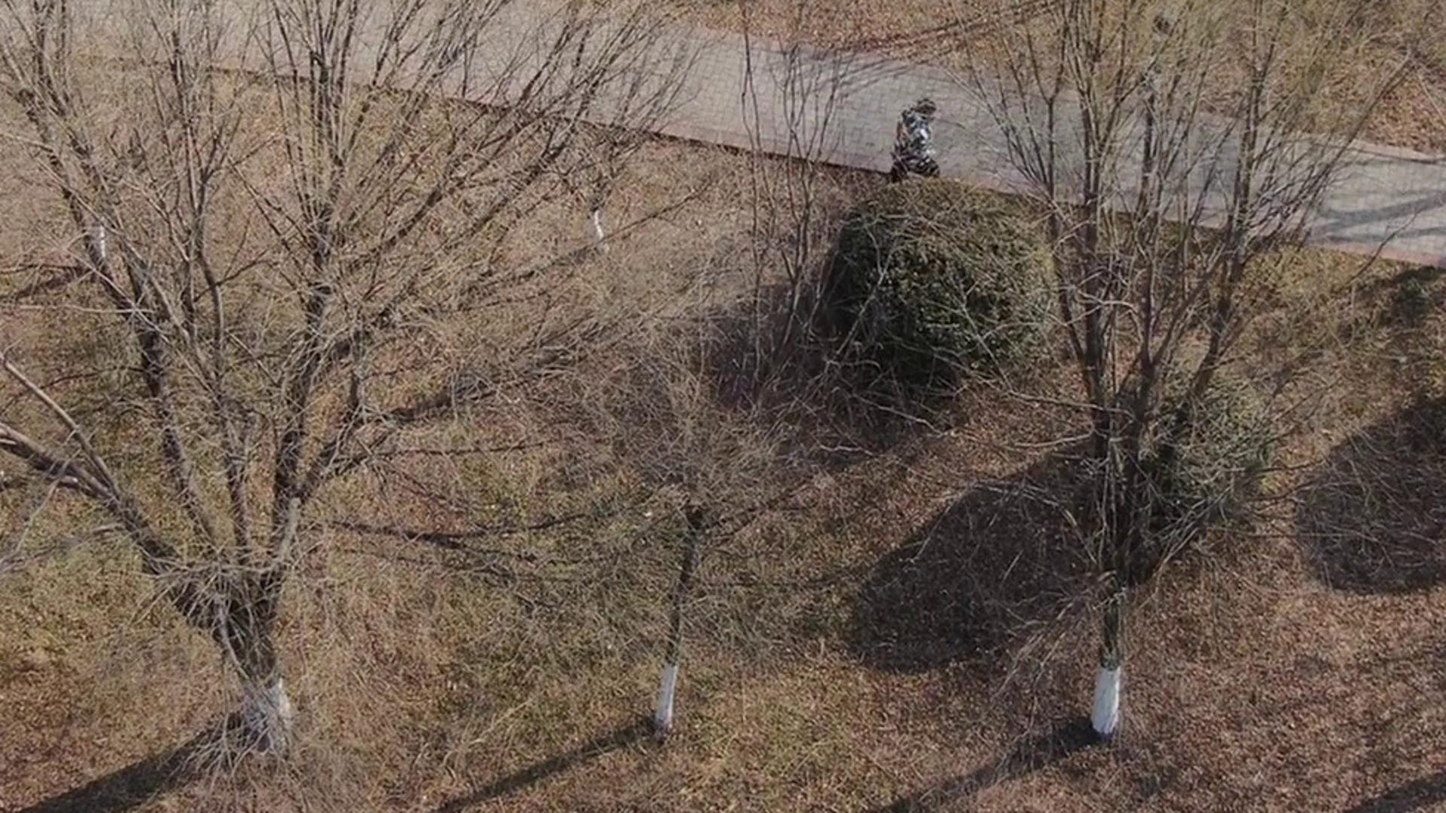human: (890, 117, 961, 212)
